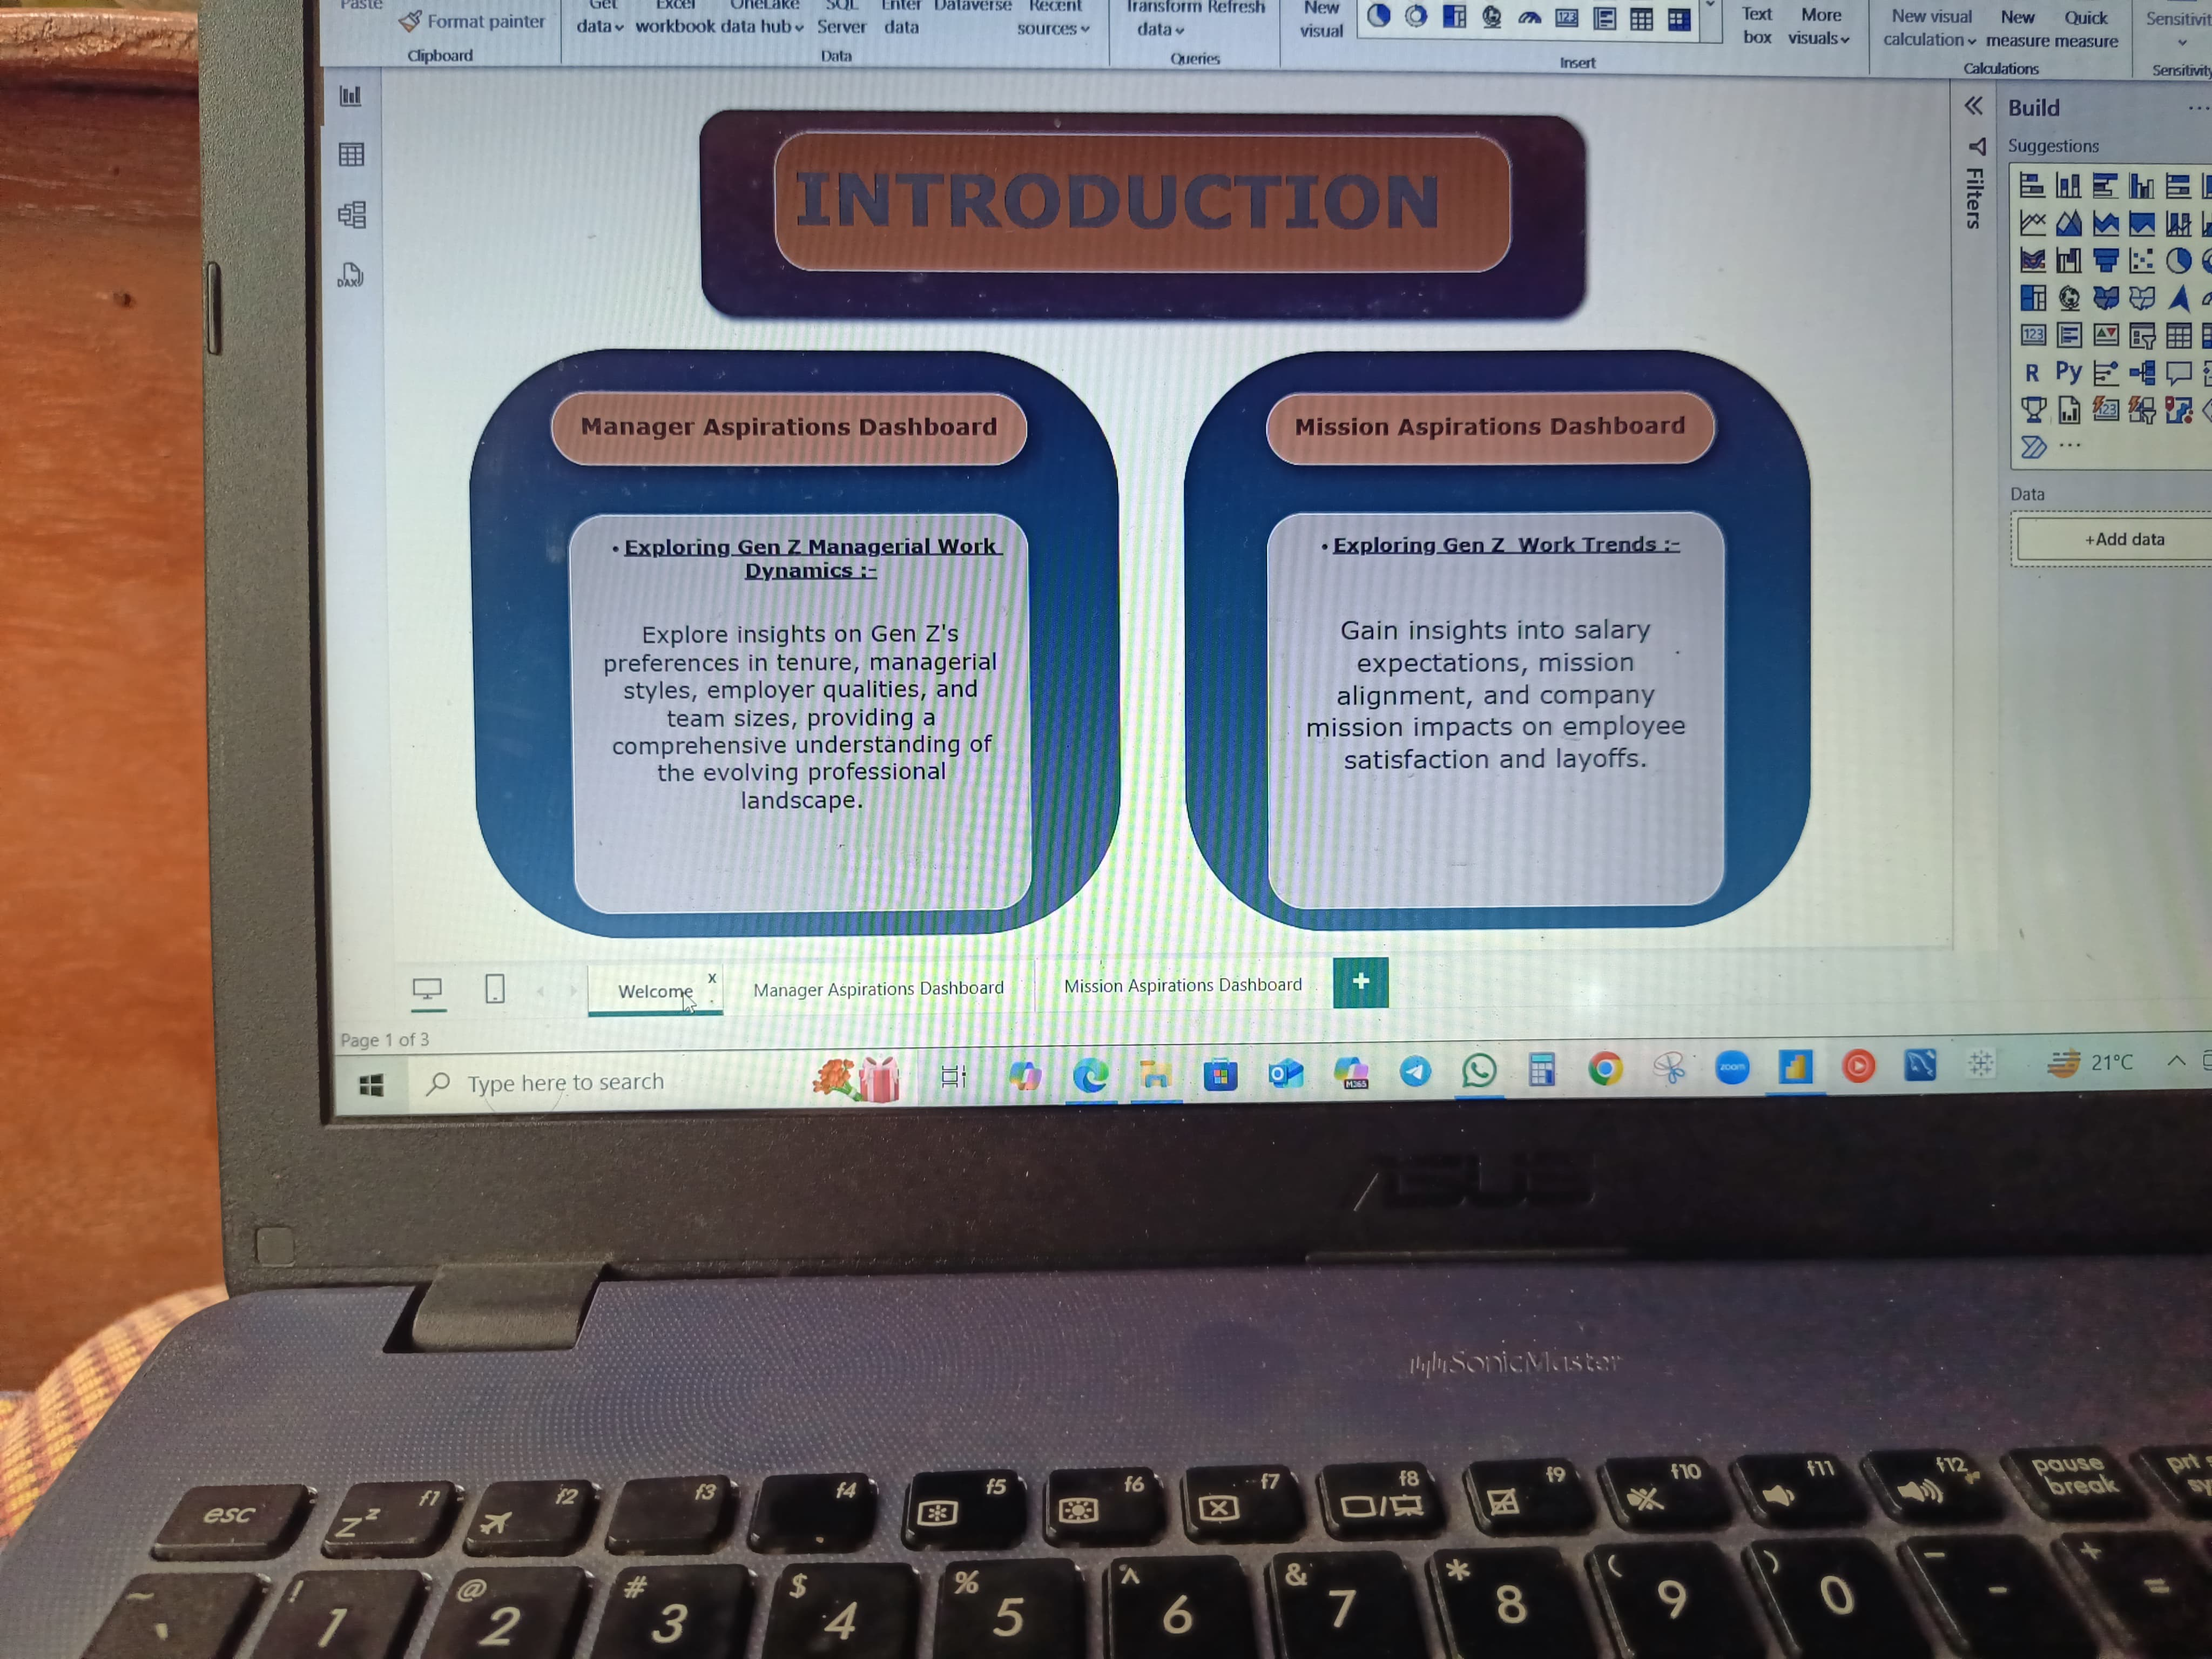

The dashboard page shown, as its layout file describes it:
{"tool":"powerbi","page":{"name":"Welcome","canvas":[1280,720],"ordinal":0},"visuals":[{"type":"shape","box":[243.4,25.4,737,184.3],"z":0},{"type":"textbox","box":[312.8,52.7,598.1,110.3],"z":1000},{"type":"shape","box":[65.9,226.5,522.4,476.7],"z":2000},{"type":"shape","box":[640.7,226.5,519,476.7],"z":3000},{"type":"textbox","box":[143.7,360.1,370.2,322.9],"z":4000},{"type":"textbox","box":[710,360.1,378.7,324.6],"z":5000},{"type":"textbox","box":[131.8,261.3,382.3,58.7],"z":6000},{"type":"textbox","box":[709.5,261.3,370.3,58.7],"z":7000}]}

Visuals, with their boxes on the page's 1280x720 design canvas (x1, y1, x2, y2). These are canvas units, not pixel positions in the 2212x1659 screenshot, which may show the page scaled, cropped or inside an application window:
shape: Rect(243, 25, 980, 210)
textbox: Rect(313, 53, 911, 163)
shape: Rect(66, 226, 588, 703)
shape: Rect(641, 226, 1160, 703)
textbox: Rect(144, 360, 514, 683)
textbox: Rect(710, 360, 1089, 685)
textbox: Rect(132, 261, 514, 320)
textbox: Rect(710, 261, 1080, 320)
